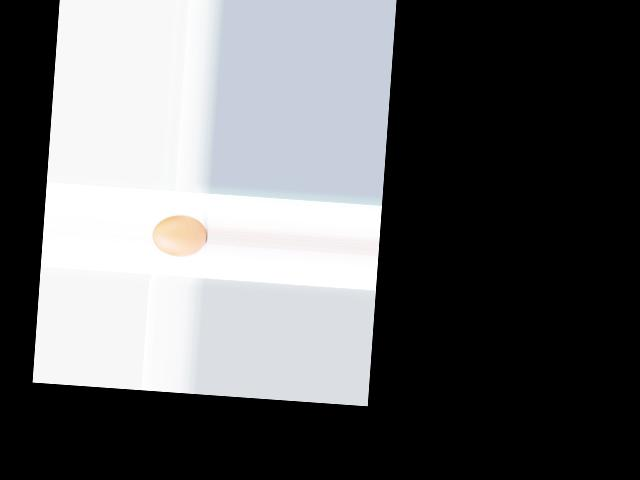egg: (151, 212, 208, 258)
